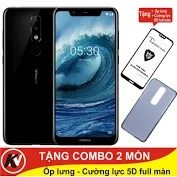nokia: (54, 4, 119, 146)
